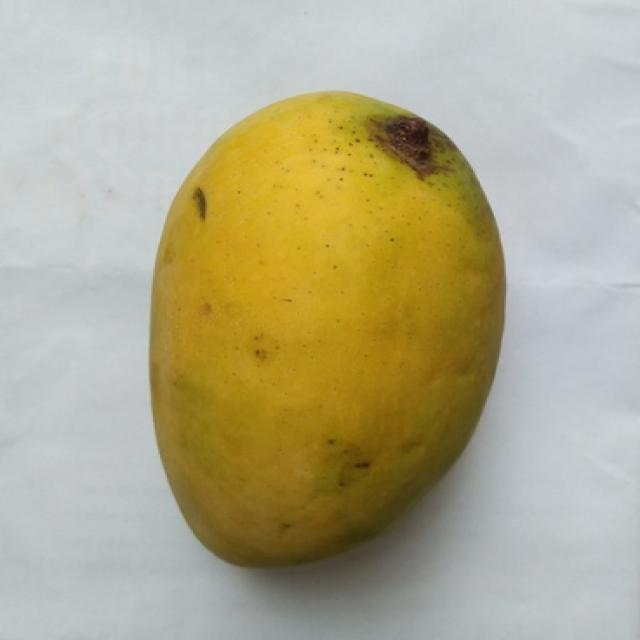Mango: (150, 93, 503, 566)
